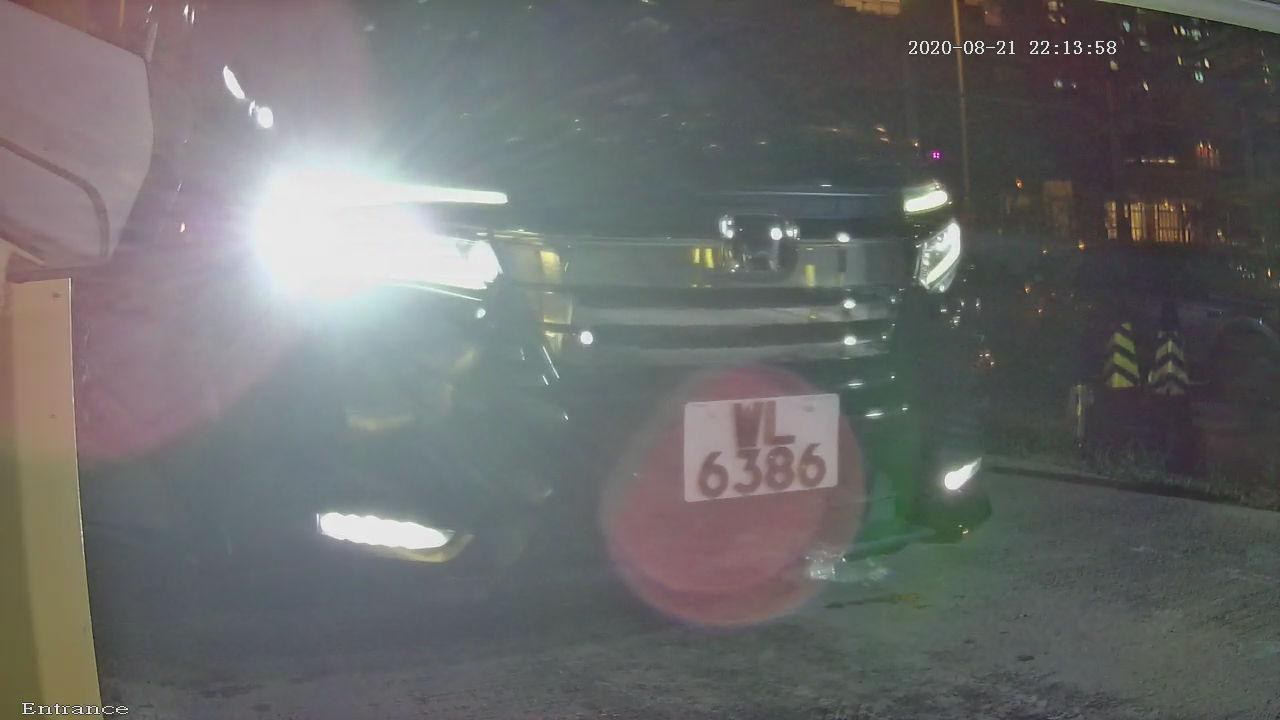Car: (35, 17, 1115, 653)
License Plate: (658, 386, 858, 518)
